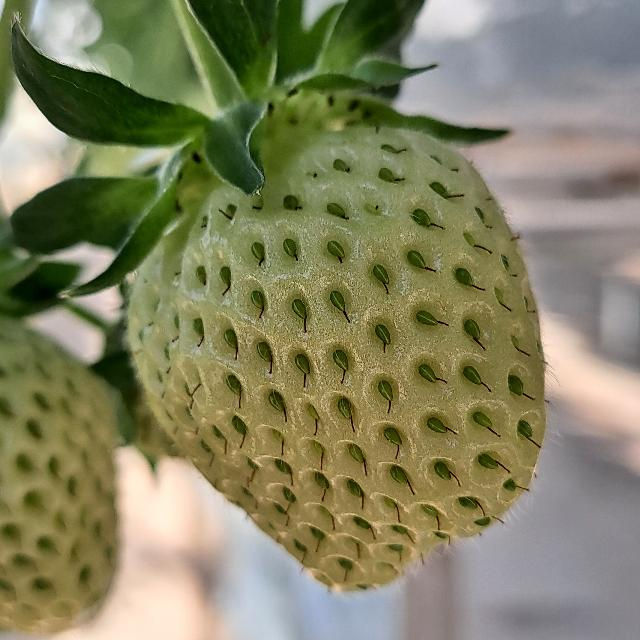Health_25: (128, 126, 546, 592)
